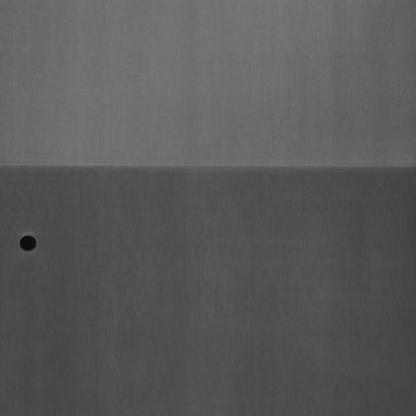punching_hole: (15, 226, 44, 255)
welding_line: (0, 152, 416, 182)
